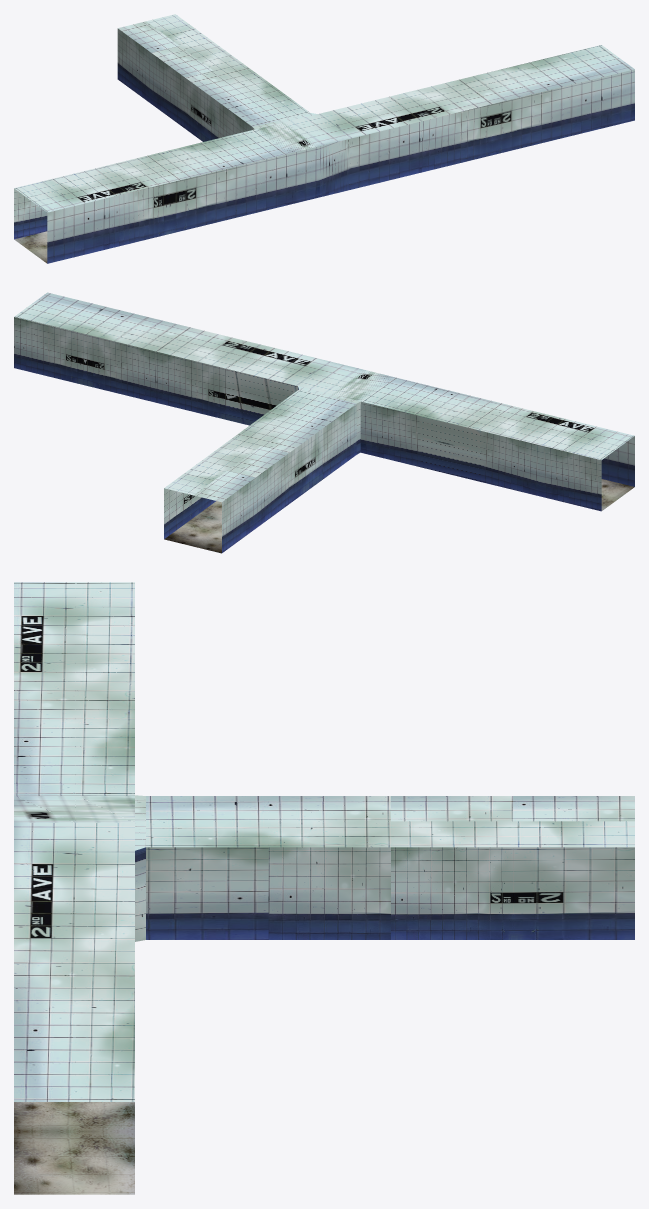
File: metro right straight T room.fbx
The picture shows the model from 3 angles, top to bottom: view 1: azimuth 30°, elevation 25°; view 2: azimuth 150°, elevation 25°; view 3: azimuth 270°, elevation 25°; orthographic projection. The views are drawn at different scales.
Visible parts, largest first — view 1: hallway T bone; view 2: hallway T bone; view 3: hallway T bone.
Boxes of the visible parts, left/top/right/bottom form: hallway T bone: left=14, top=14, right=634, bottom=263; hallway T bone: left=14, top=292, right=634, bottom=553; hallway T bone: left=14, top=582, right=634, bottom=1194.
Bounding box in the file's own units: 4918 × 810 × 9733.
